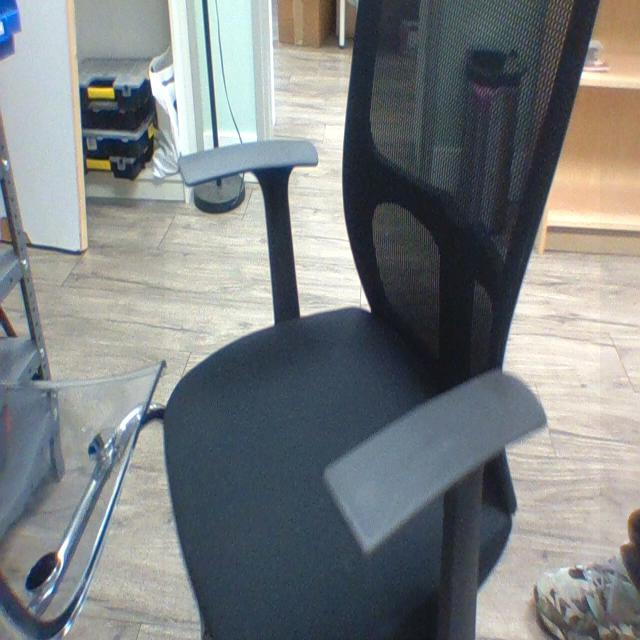black-chair: (165, 0, 601, 639)
